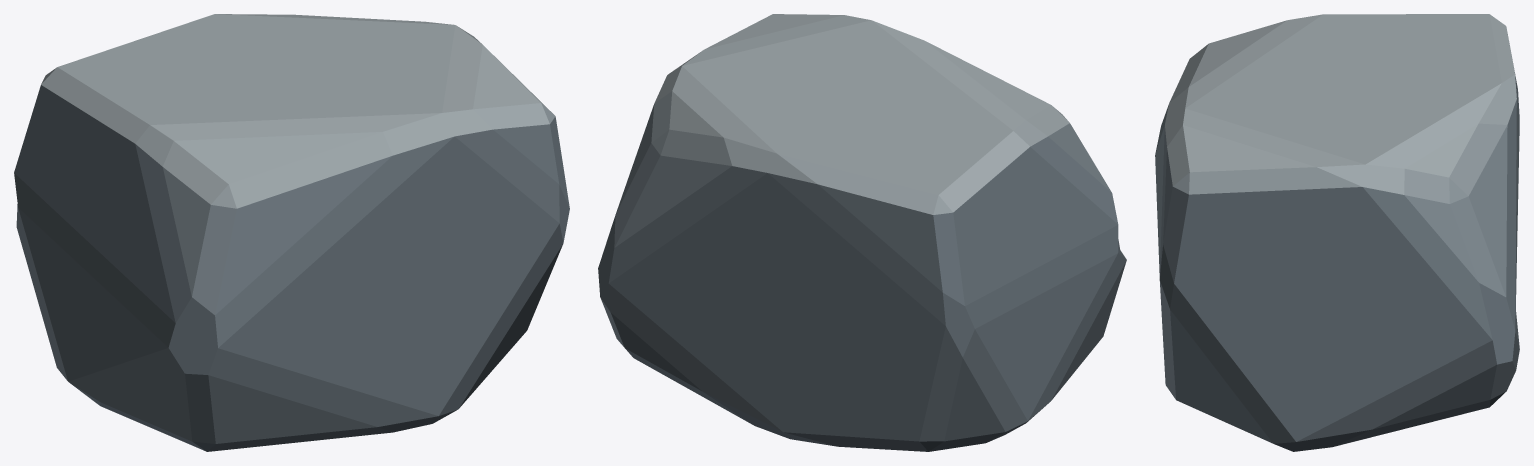
The model's file is boulder-round.glb.
3 views of the same model, side by side, from view 1: azimuth 30°, elevation 25°; view 2: azimuth 150°, elevation 25°; view 3: azimuth 270°, elevation 25° (orthographic). The views are drawn at different scales.
Visible parts, largest first — view 1: boulder-round; view 2: boulder-round; view 3: boulder-round.
Part boxes in pixels (x1,y1,x2,y2): boulder-round: (14, 14, 569, 451); boulder-round: (598, 14, 1126, 451); boulder-round: (1155, 14, 1519, 451).
Bounding box in the file's own units: 1.1 × 0.7893 × 0.8742.
